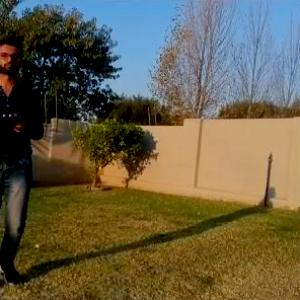follow: (0, 34, 48, 296)
